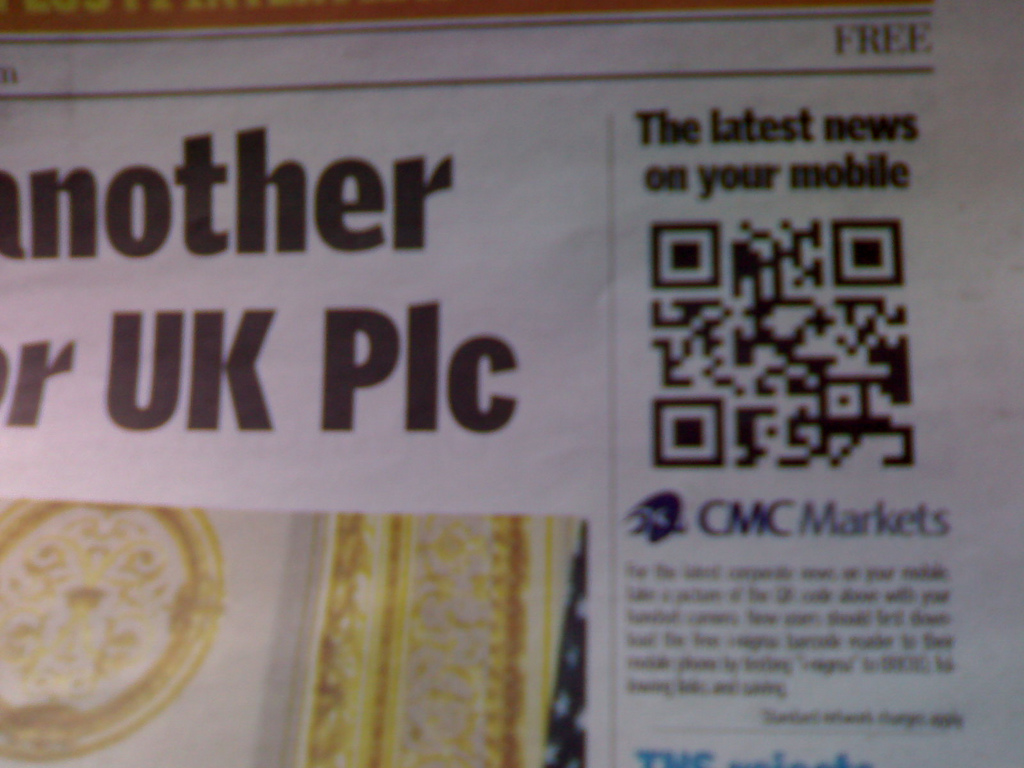QR-CODE: (651, 218, 915, 468)
